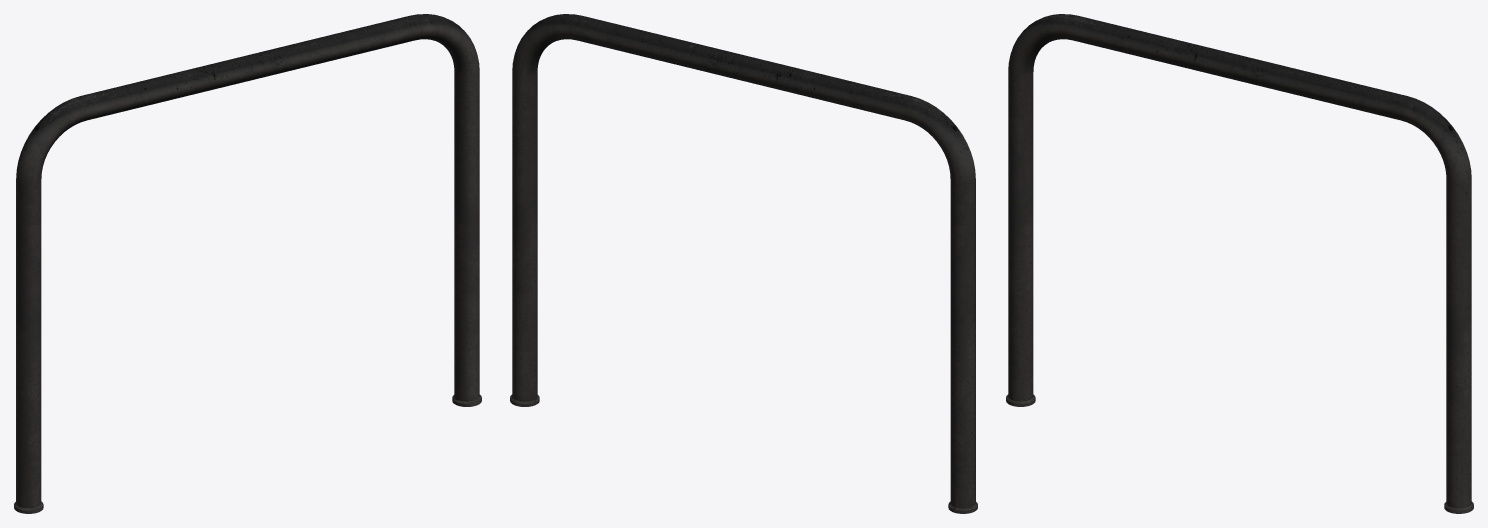
File: bus_stop_railing.fbx
3 views of the same model, side by side, from view 1: azimuth 30°, elevation 25°; view 2: azimuth 150°, elevation 25°; view 3: azimuth 330°, elevation 25° (orthographic).
Parts seen in each view (by area): view 1: Mesh1_Group1_Model; view 2: Mesh1_Group1_Model; view 3: Mesh1_Group1_Model.
Boxes of the visible parts, box(x1,y1,x2,y2) form: Mesh1_Group1_Model: box(14, 14, 481, 513); Mesh1_Group1_Model: box(510, 14, 977, 513); Mesh1_Group1_Model: box(1006, 14, 1473, 513).
Bounding box in the file's own units: 127 × 104 × 7.06.
1 material, 1 textured.
